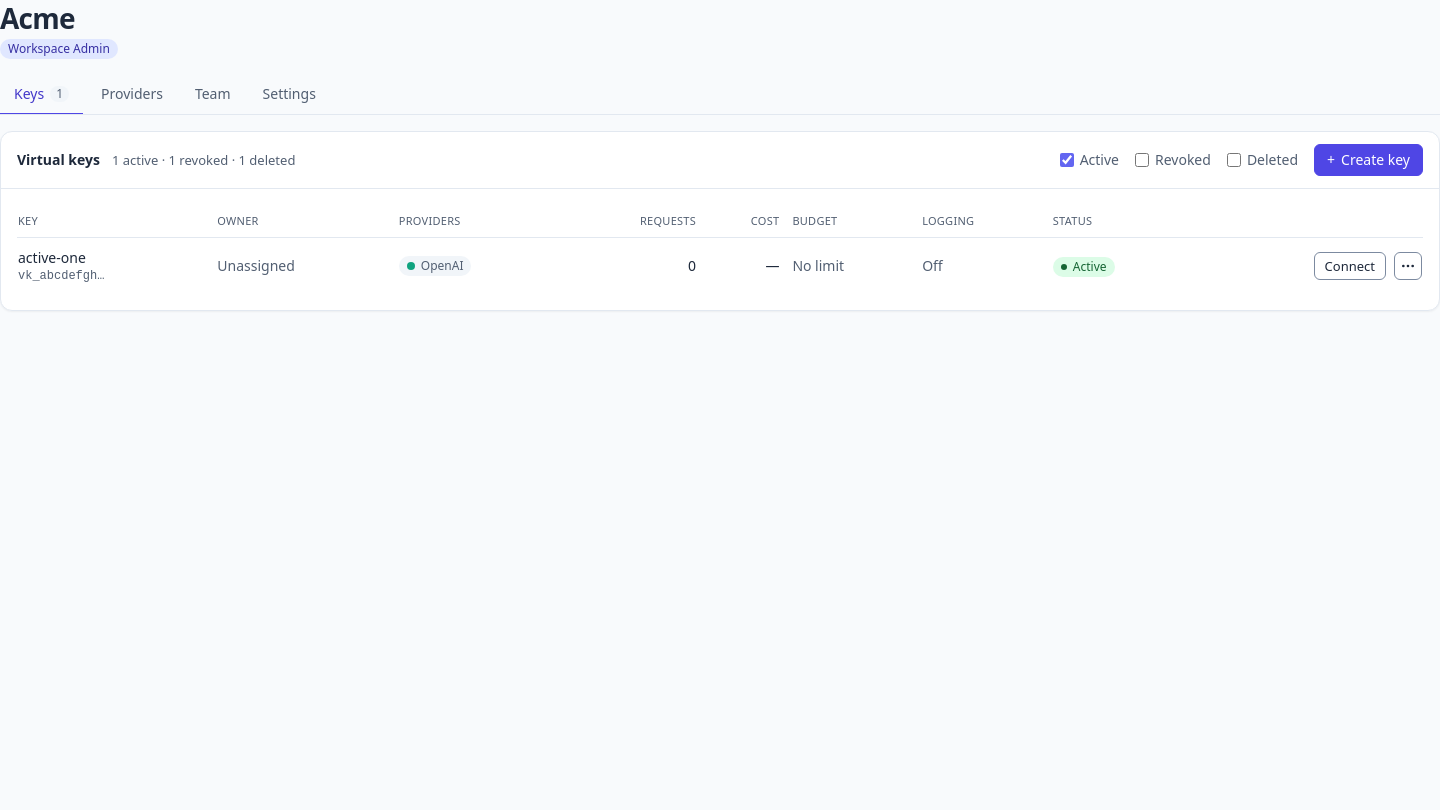
Test: Workspace -> red confirmation before revoke / delete › revoke asks first in a red box naming the key, and does nothing on Cancel
This screenshot has width=1440, height=810.
Expected: the text "active-one" is shown, [18,248,86,267]
Click the button named "More actions for active-one". click: (1408, 266)
box: [1394,252,1422,280]
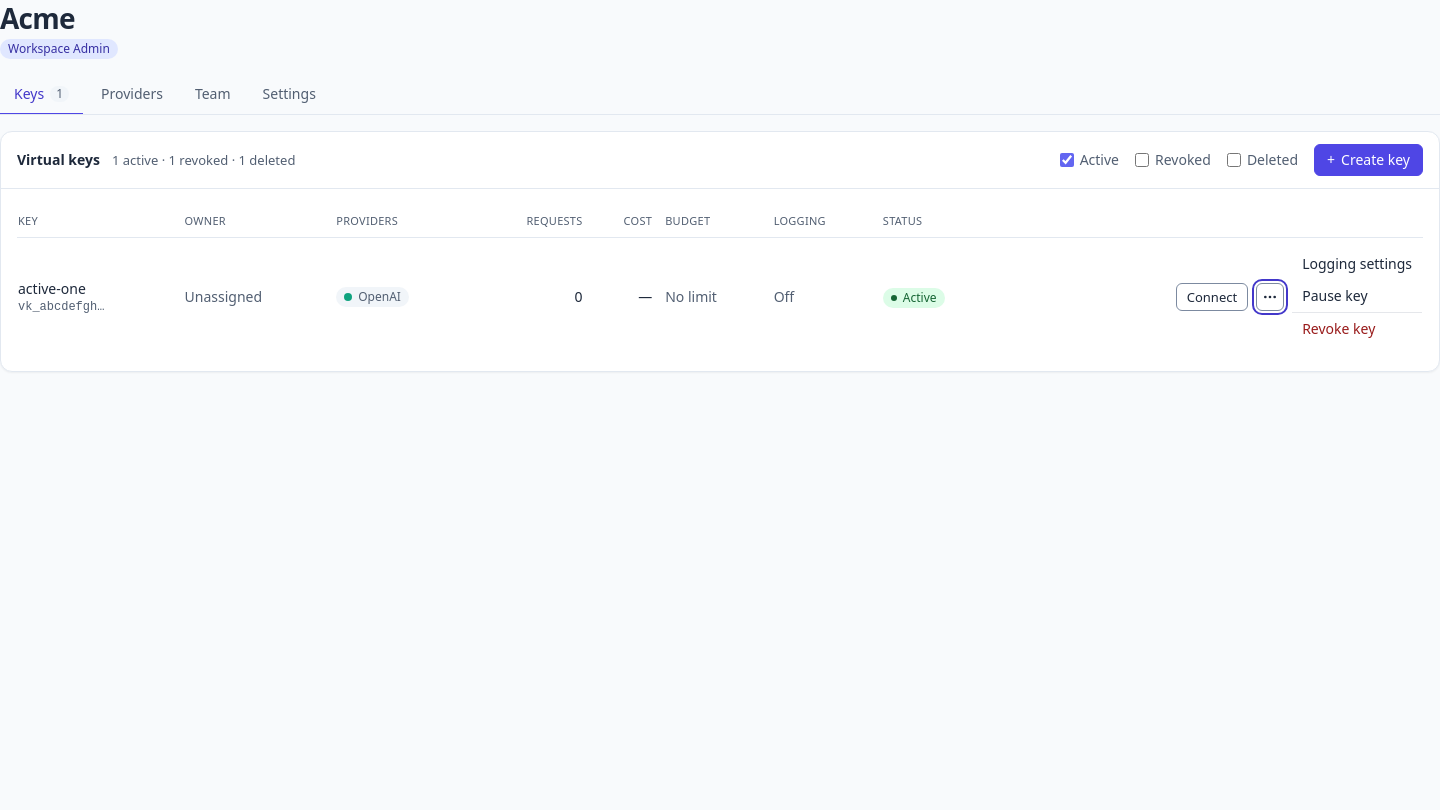
Click the menu item "Revoke key". click: (1339, 329)
box: [1302,319,1375,338]
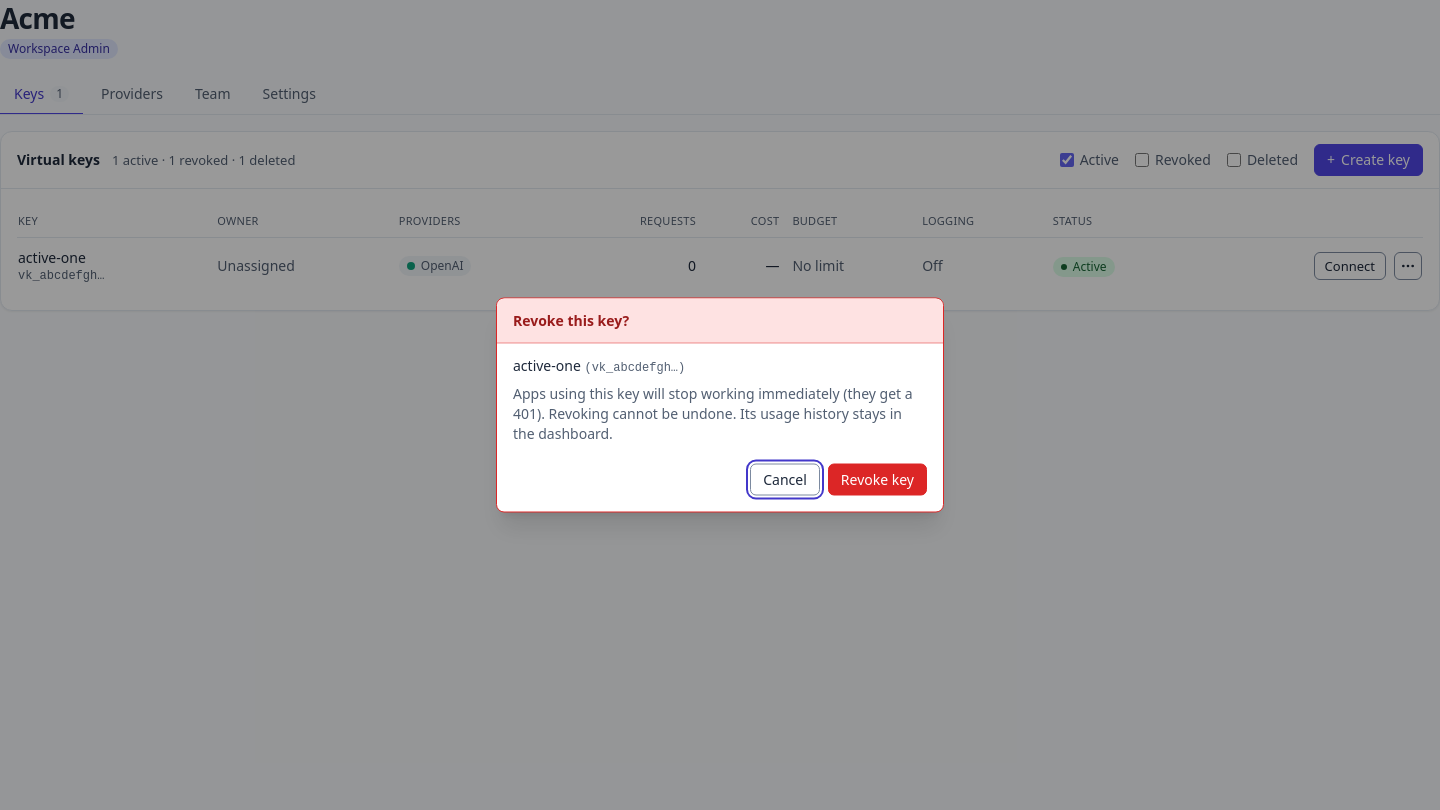
Expected: the heading "Revoke this key?" is shown, [513,310,629,330]
Expected: the text "active-one" is shown, [513,356,581,374]
Click the button "Cancel". click: (785, 480)
box: [750,464,820,496]
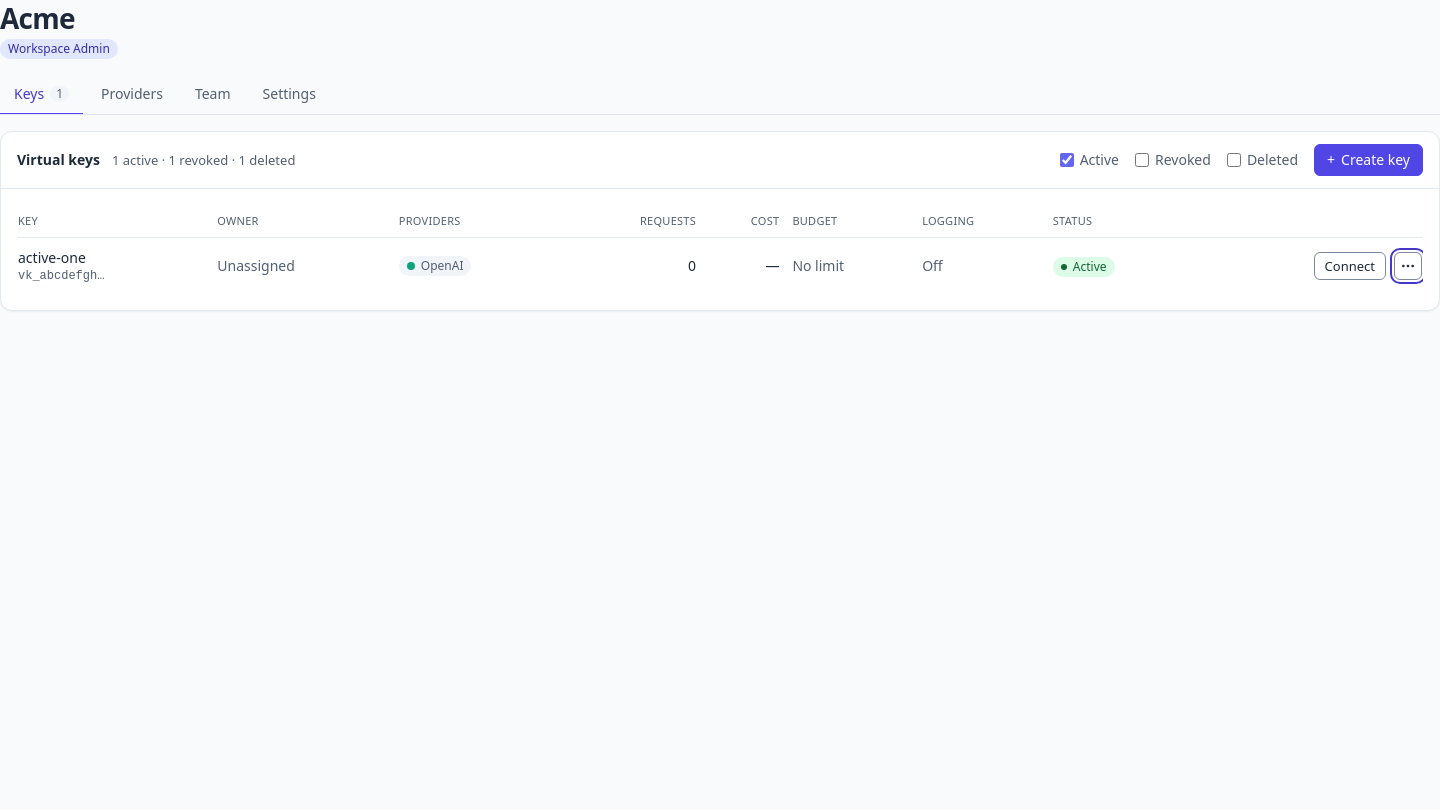
Expected: the dialog is gone
